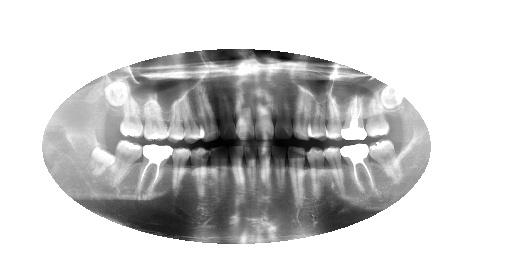i10decay: (224, 138, 250, 195)
i11decay: (207, 139, 231, 207)
i12healthy: (188, 142, 212, 206)
i13healthy: (168, 141, 195, 204)
i14healthy: (134, 139, 175, 207)
i15healthy: (106, 132, 146, 195)
i16healthy: (85, 138, 118, 181)
i1loss: (394, 135, 425, 179)
i2decay: (366, 136, 406, 188)
i3healthy: (336, 138, 383, 198)
i4decay: (322, 144, 350, 201)
i5healthy: (304, 138, 329, 209)
i6healthy: (286, 141, 309, 216)
i7healthy: (268, 138, 289, 204)
i8decay: (255, 136, 274, 201)
i9decay: (242, 137, 262, 200)
u10healthy: (213, 84, 238, 142)
u11healthy: (193, 76, 225, 148)
u12decay: (180, 81, 207, 148)
u13healthy: (166, 86, 188, 146)
u14healthy: (138, 91, 170, 145)
u15healthy: (119, 96, 144, 145)
u16healthy: (102, 78, 133, 109)
u1healthy: (377, 77, 406, 115)
u2healthy: (363, 92, 393, 140)
u3healthy: (338, 90, 372, 146)
u4healthy: (323, 88, 345, 145)
u5healthy: (302, 92, 333, 148)
u6healthy: (291, 86, 312, 144)
u7decay: (272, 82, 297, 140)
u8healthy: (252, 82, 276, 146)
u9healthy: (232, 82, 262, 144)
